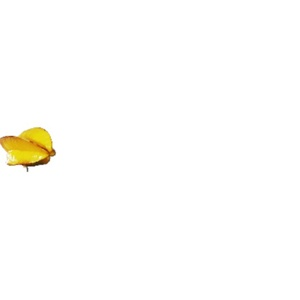carambola: (1, 126, 57, 171)
